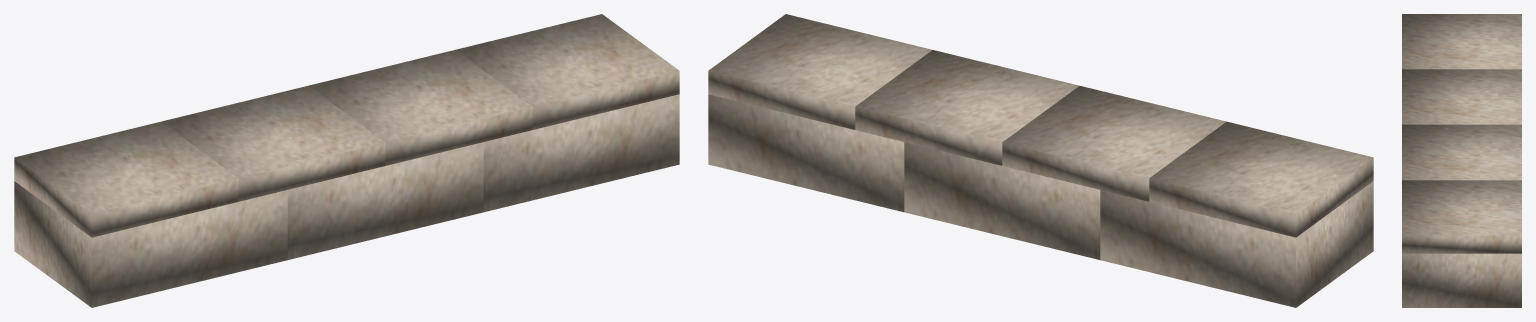
File: limestone slab.glb
3 renders of one model, left to right at view 1: azimuth 30°, elevation 25°; view 2: azimuth 150°, elevation 25°; view 3: azimuth 270°, elevation 25°, orthographic. The views are drawn at different scales.
Visible parts, largest first — view 1: 9x18x18.002; view 2: 9x18x18.002; view 3: 9x18x18.002.
Boxes of the visible parts, box(x1,y1,x2,y2) form: 9x18x18.002: box(14, 14, 679, 307); 9x18x18.002: box(708, 14, 1373, 307); 9x18x18.002: box(1402, 14, 1521, 307).
Bounding box in the file's own units: 2 × 0.3048 × 0.4572.
Materials: 1 (1 with a texture image).
